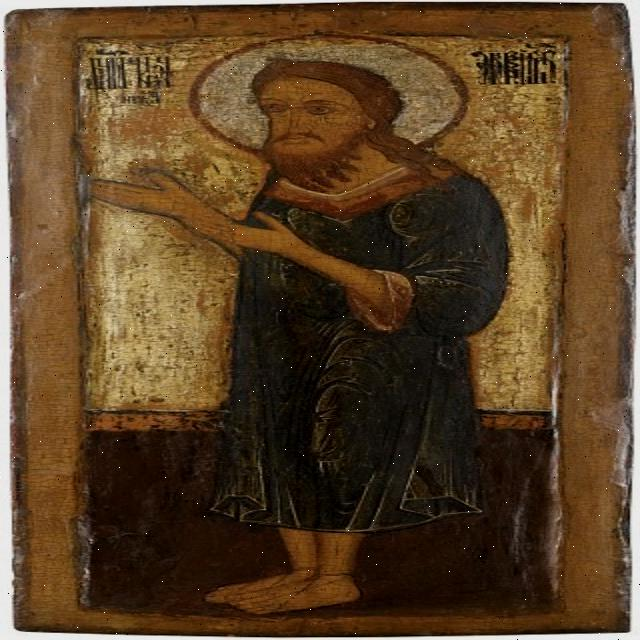aura: (188, 31, 480, 166)
saint: (130, 24, 514, 616)
